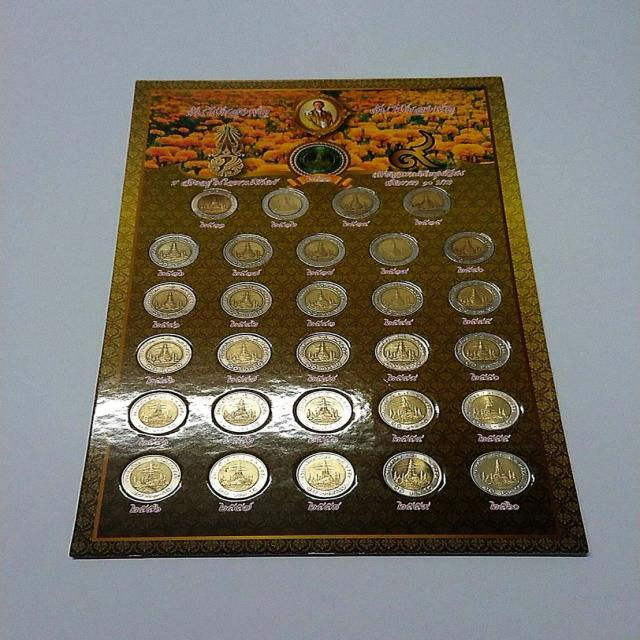10 Bath: (377, 451, 450, 500), (291, 449, 360, 500), (469, 447, 533, 498), (209, 390, 274, 438), (457, 388, 526, 433), (207, 452, 273, 499), (293, 389, 357, 435), (122, 456, 183, 504), (376, 392, 443, 434), (129, 391, 190, 437), (134, 331, 194, 375), (374, 331, 433, 375), (291, 334, 353, 375), (366, 283, 428, 321), (214, 335, 272, 374), (146, 281, 198, 322), (456, 329, 512, 367), (443, 280, 502, 316), (289, 235, 350, 269), (148, 233, 202, 270), (294, 284, 349, 318), (365, 235, 421, 268), (447, 230, 498, 265), (193, 188, 240, 224), (223, 287, 272, 320), (225, 233, 271, 267), (262, 189, 310, 221), (406, 186, 449, 221), (335, 189, 379, 222)
